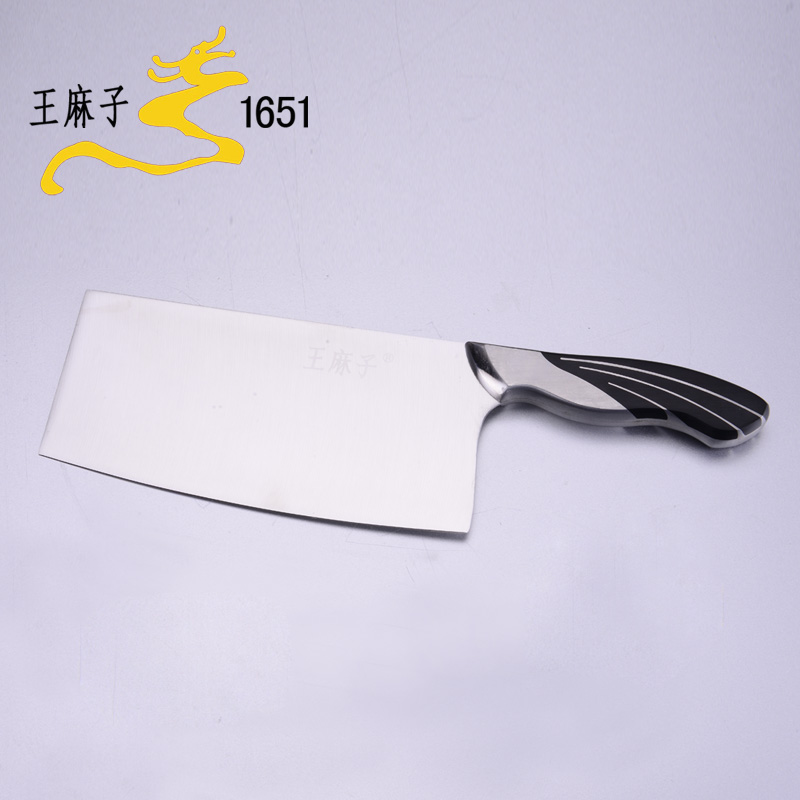knief: (45, 267, 761, 544)
